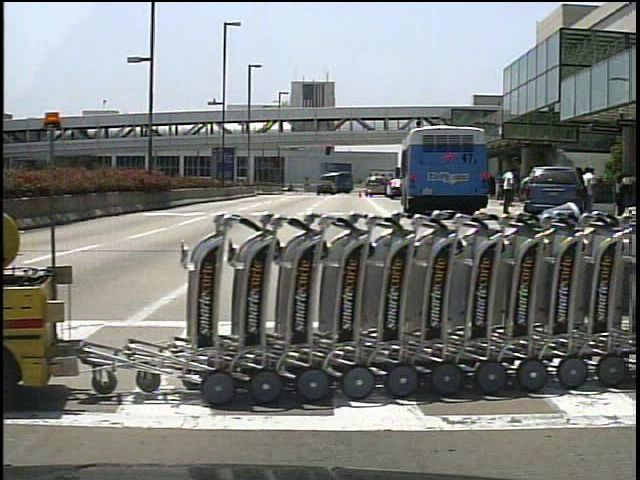person: (580, 165, 601, 214), (518, 168, 537, 215), (498, 166, 516, 215)
